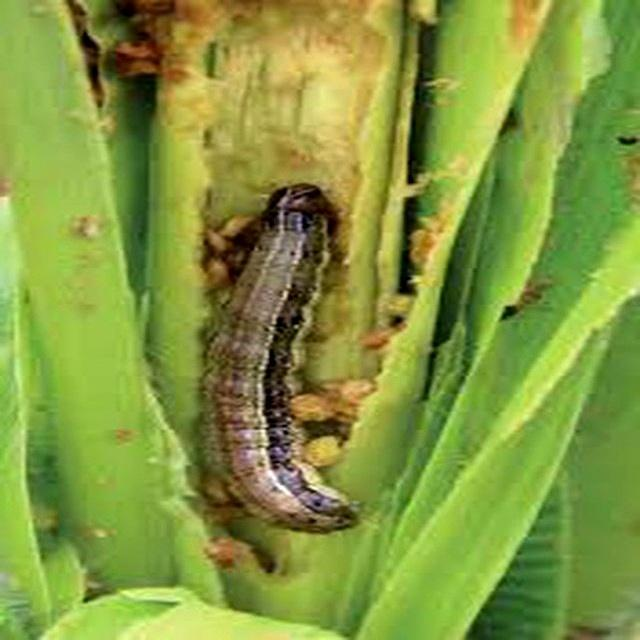gusano_cogollero: (194, 176, 368, 536)
